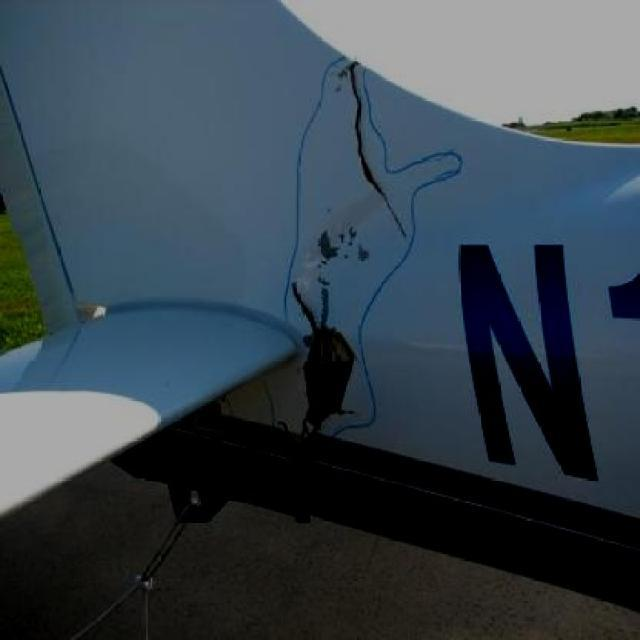crack: (329, 78, 411, 235)
